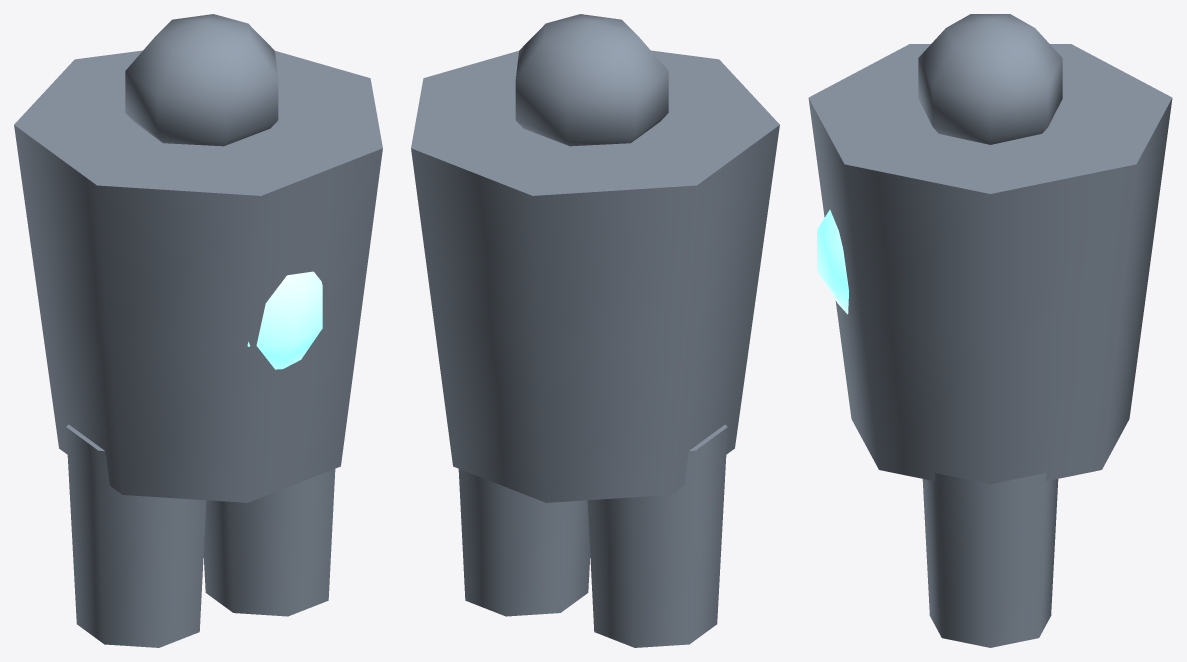
File: mon_golem.glb
The picture shows the model from 3 angles, left to right: view 1: azimuth 30°, elevation 25°; view 2: azimuth 150°, elevation 25°; view 3: azimuth 270°, elevation 25°; orthographic projection. The views are drawn at different scales.
Parts seen in each view (by area): view 1: golem_rock, golem_core; view 2: golem_rock; view 3: golem_rock, golem_core.
Boxes of the visible parts, <box> form: golem_rock: <box>14,14,382,647</box>; golem_core: <box>247,271,322,369</box>; golem_rock: <box>411,14,779,647</box>; golem_rock: <box>808,14,1172,647</box>; golem_core: <box>817,209,848,314</box>.
Bounding box in the file's own units: 1.37 × 2.43 × 1.4.
